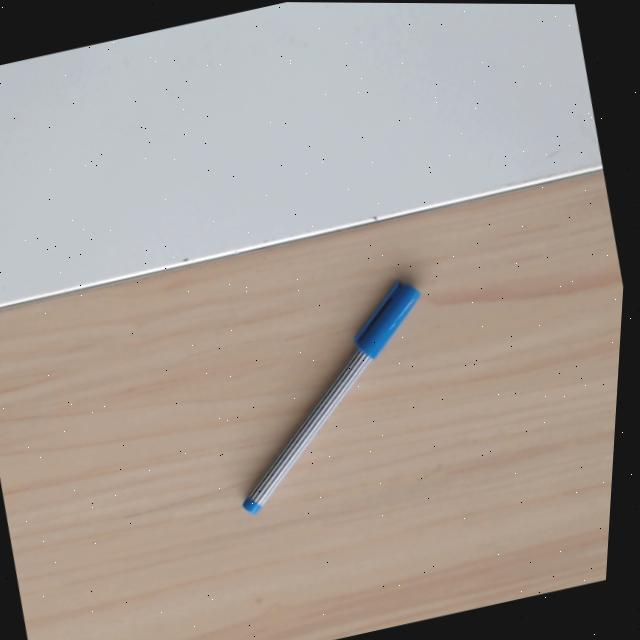Pulpen-Garis-Biru: (234, 276, 423, 522)
